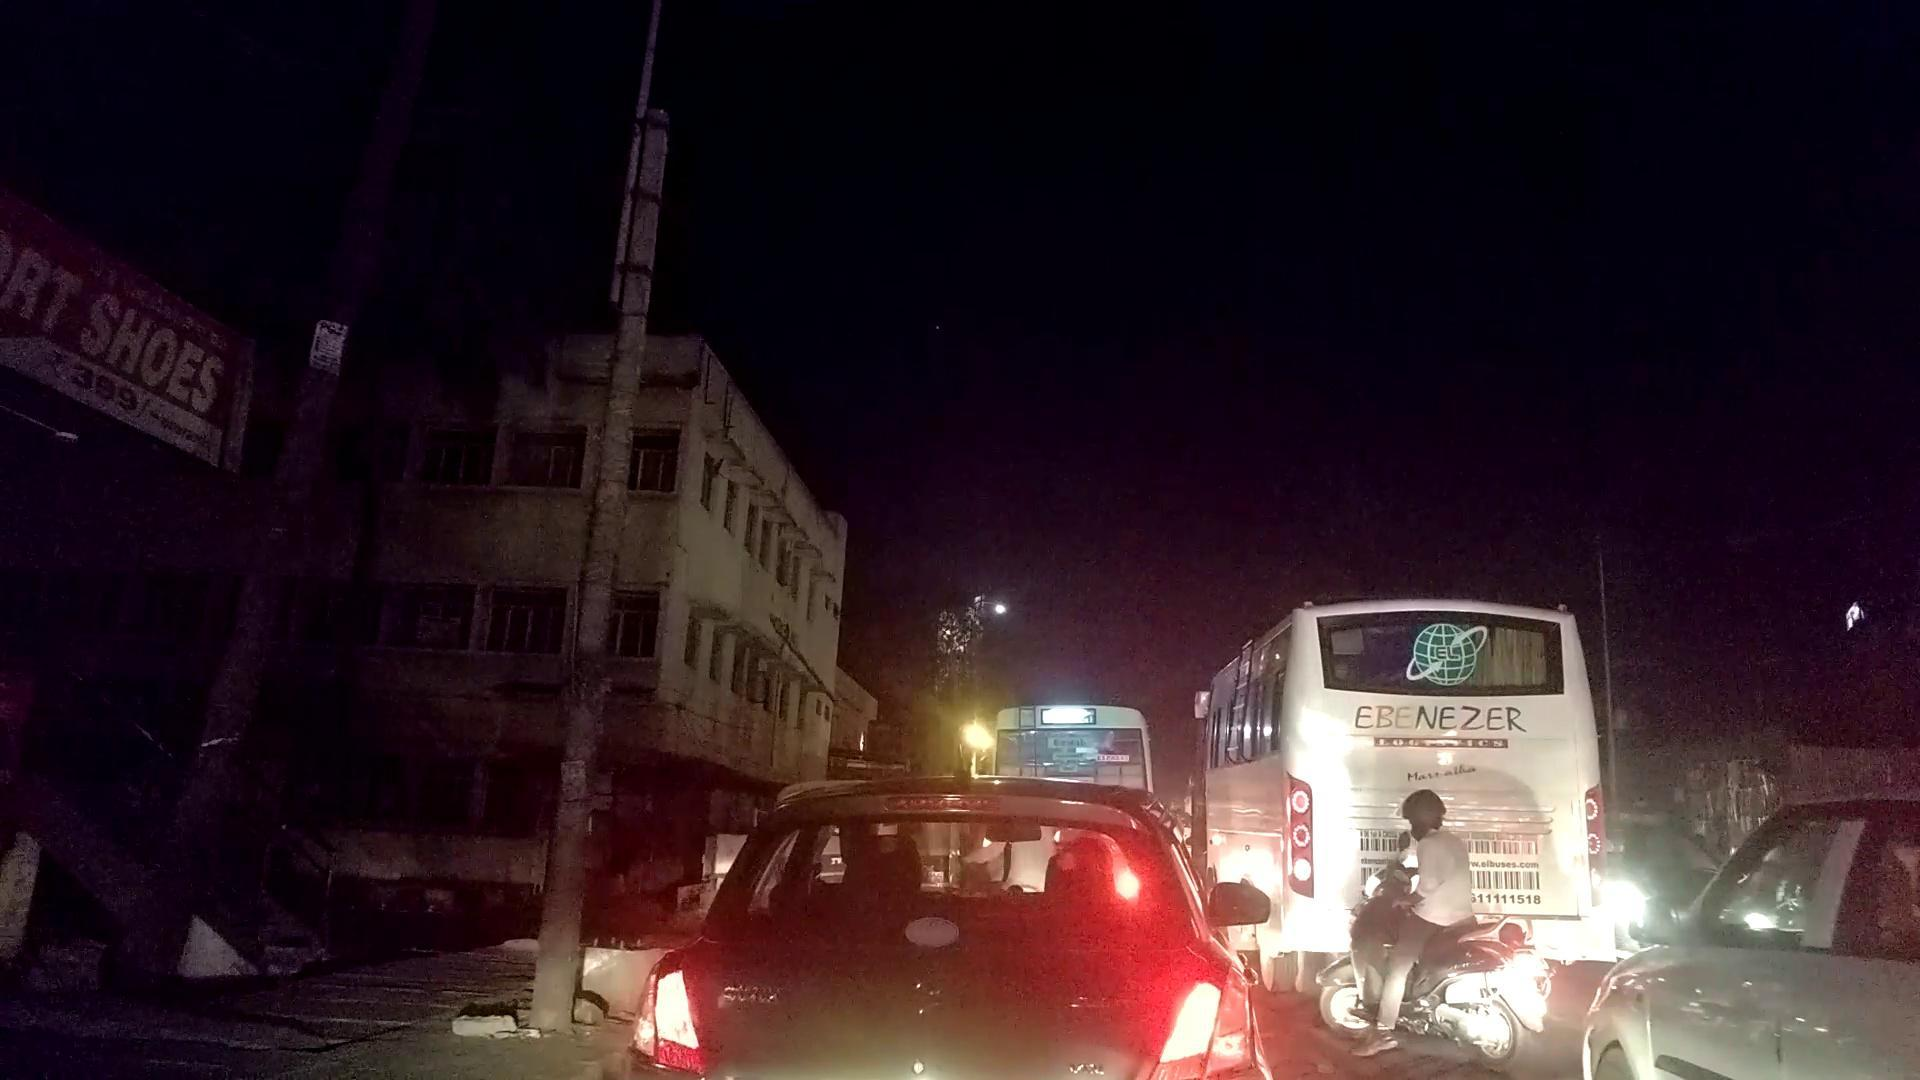on: (800, 531, 1151, 827)
